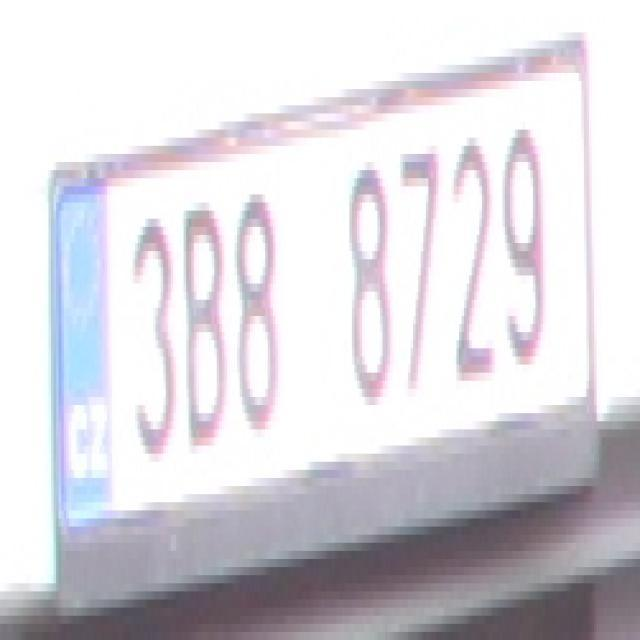2: (454, 138, 492, 372)
3: (132, 219, 176, 462)
7: (398, 146, 436, 397)
8: (344, 154, 390, 405), (232, 195, 276, 438)
9: (499, 122, 544, 364)
B: (180, 194, 224, 446)
